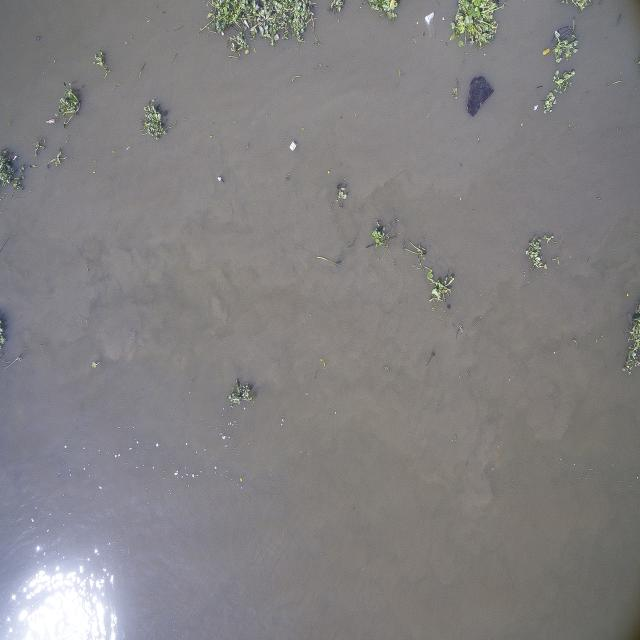plastic: (462, 74, 496, 119), (285, 136, 303, 158), (426, 8, 441, 31)
